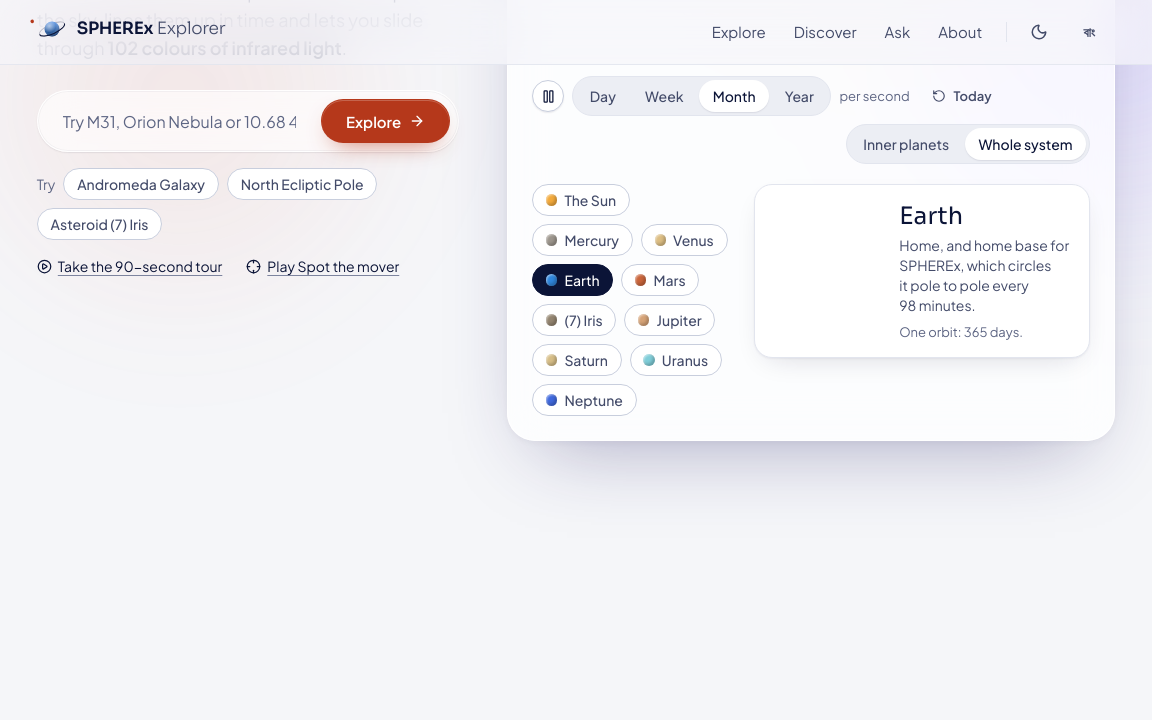
Scenario: landing page › lets keyboard users pick a planet and read about it
The image size is (1152, 720).
(page scrolled)
Step 1. Click the button "Saturn" → [577, 360], box [532,344,622,376]
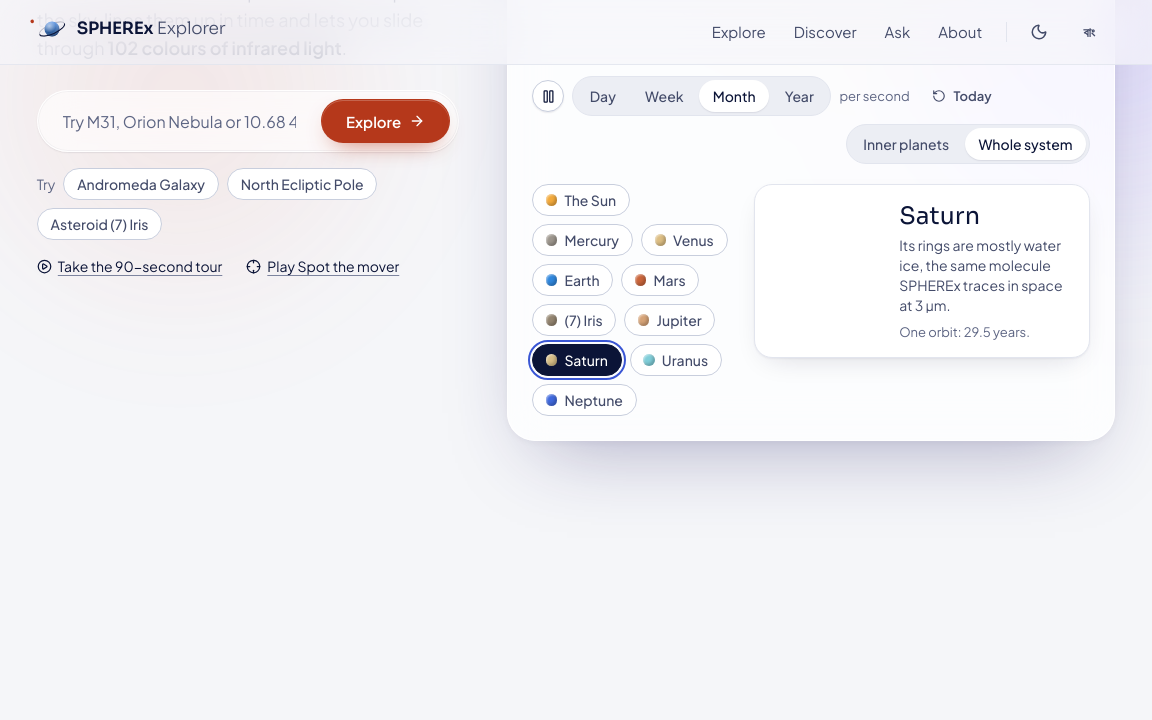
Now the text "rings are mostly water ice" is shown, box [899,236,1063,314]
